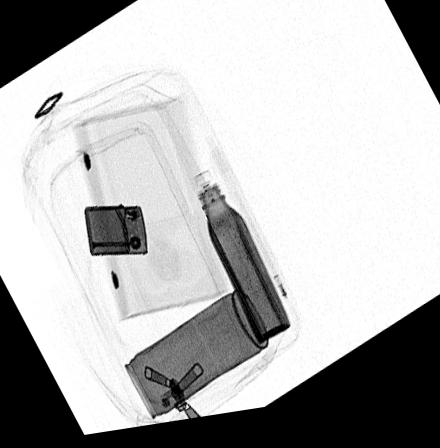Lighter: (84, 206, 147, 259)
